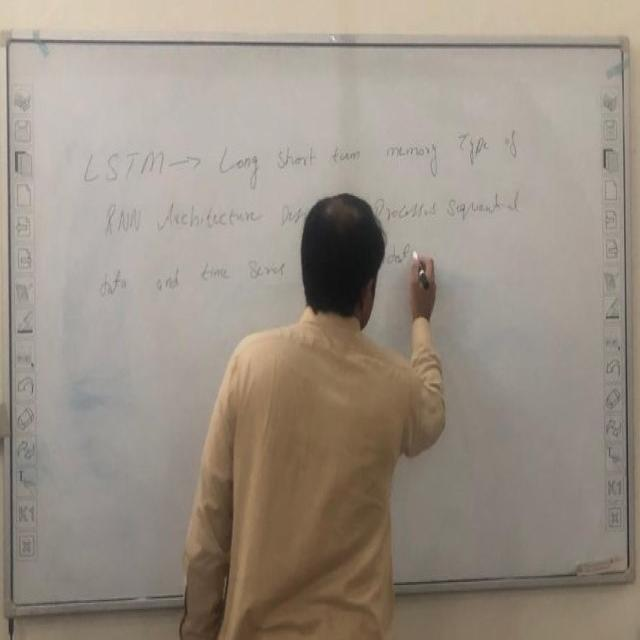Instructor: (230, 171, 414, 637)
White-board: (7, 35, 634, 618)
